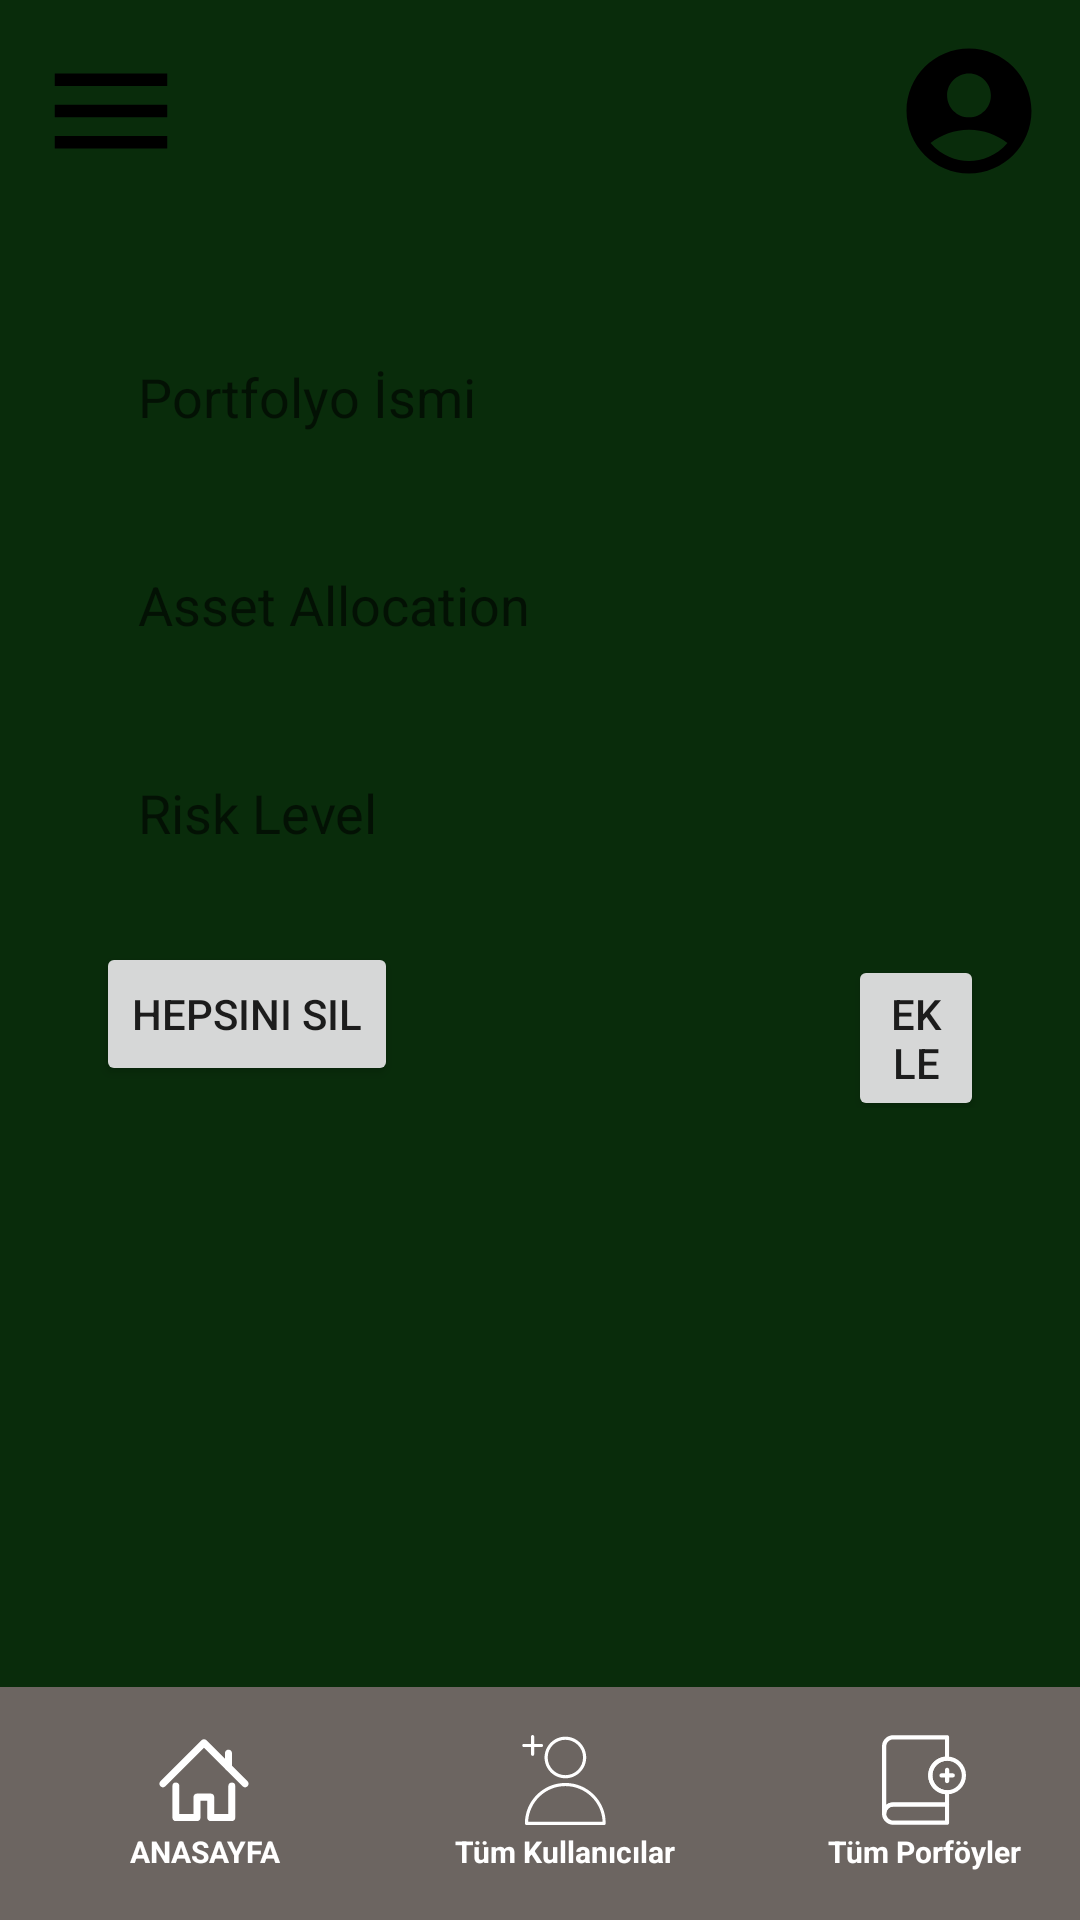

Icon bounding boxes for this 1080*1920 phone screenshot, format (x1, y1, x2, y2):
account circle: (907, 49, 1031, 173)
add user: (522, 1735, 606, 1825)
book add: (882, 1735, 966, 1825)
menu: (55, 74, 167, 148)
